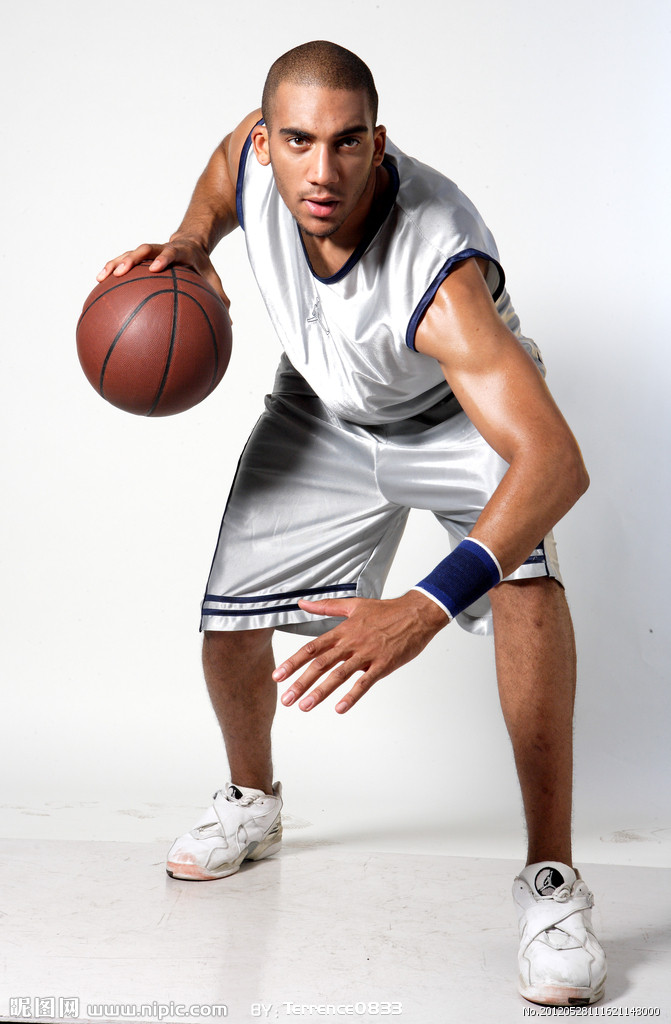ball: (74, 255, 235, 419)
